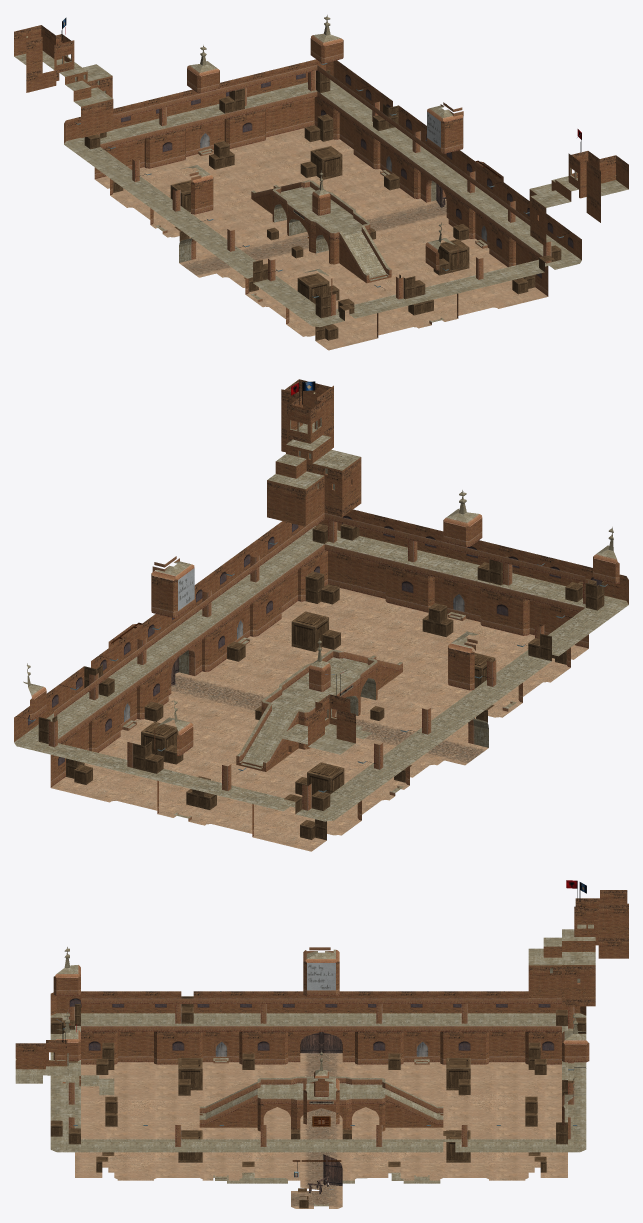
The model's file is awp_india_ks.gltf.
3 renders of one model, top to bottom at view 1: azimuth 30°, elevation 25°; view 2: azimuth 150°, elevation 25°; view 3: azimuth 270°, elevation 25°, orthographic. The views are drawn at different scales.
Parts seen in each view (by area): view 1: *0; view 2: *0; view 3: *0.
Boxes of the visible parts, <box> form: *0: <box>14,15,628,350</box>; *0: <box>14,379,628,851</box>; *0: <box>15,880,628,1208</box>.
Bounding box in the file's own units: 64.08 × 37.08 × 96.96.
